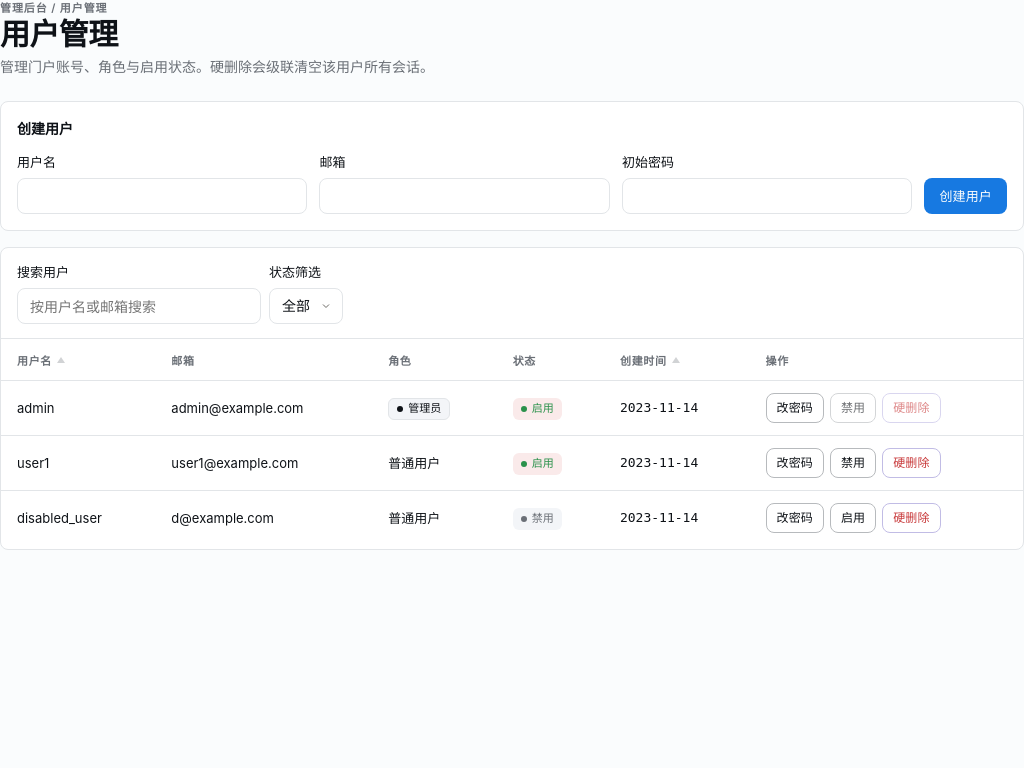
Test case: UsersAdminPage › 修改密码 — 点击"改密码"后提交新密码并调 PATCH /admin/users/:id/password
Click the button "改密码" in the row of "user1@example.com".
click(795, 463)  # box [766, 448, 824, 478]
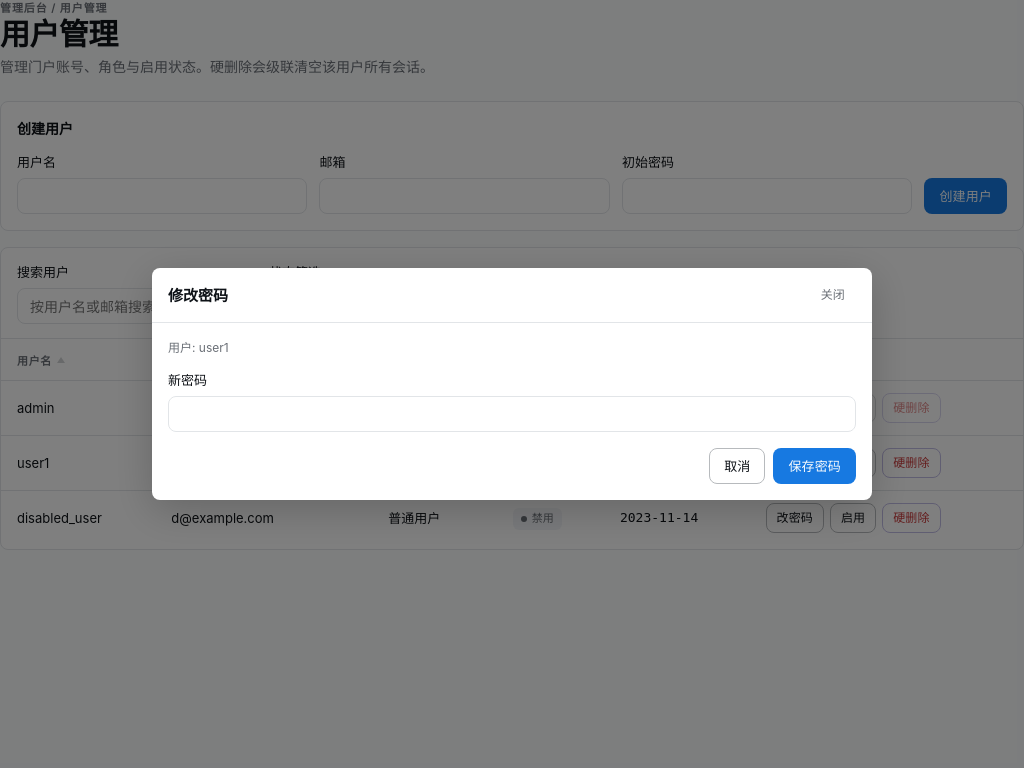
Type "newpass123" into the password field labelled "新密码".
click(512, 414); type("newpass123")  # box [168, 396, 856, 432]
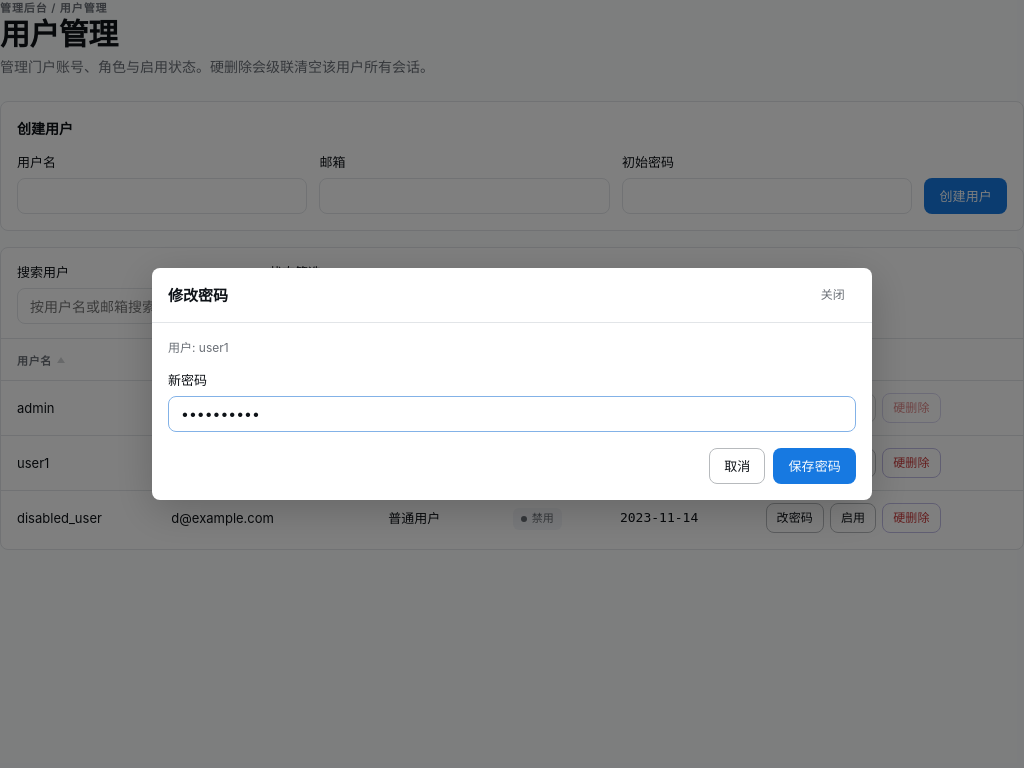
Click the button "保存密码".
click(815, 466)  # box [774, 448, 856, 484]
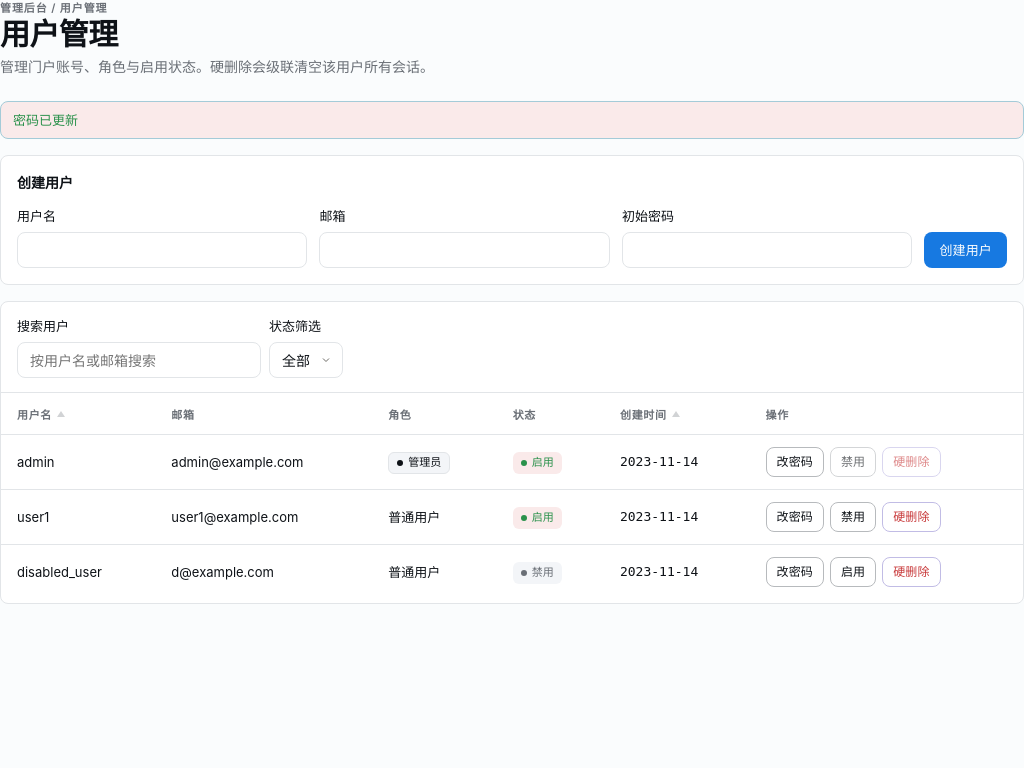
Check: the text "密码已更新" is shown, box [0, 101, 1023, 139]
